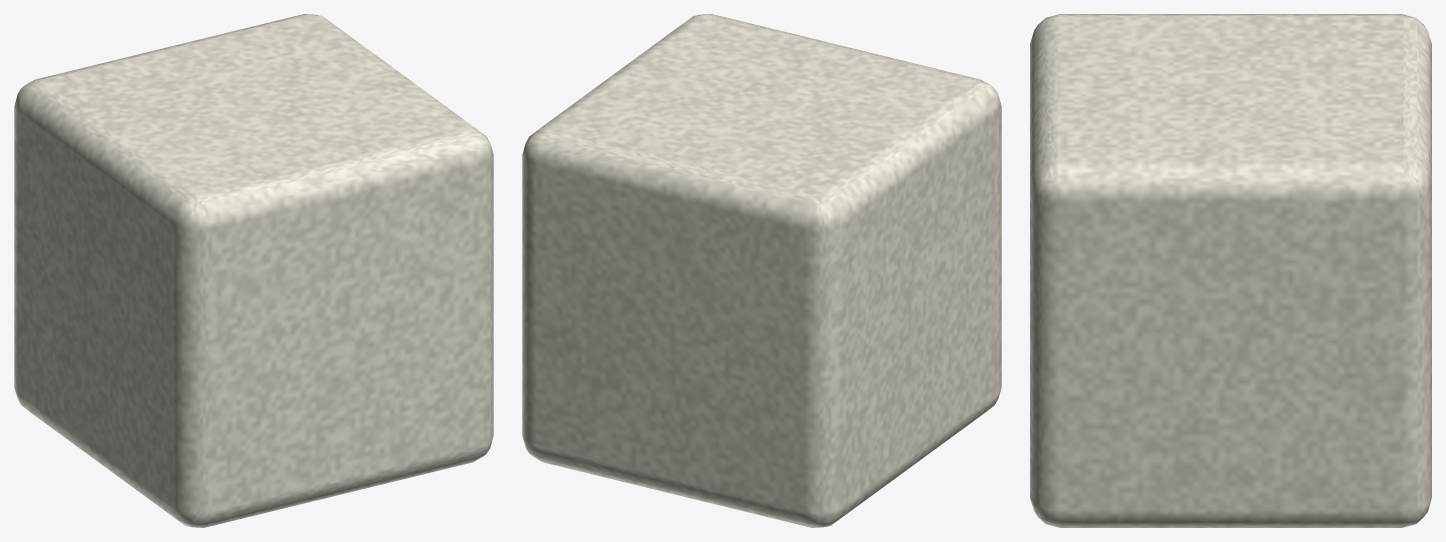
Rendered from hazard_sugar_cube.glb.
The picture shows the model from 3 angles, left to right: view 1: azimuth 30°, elevation 25°; view 2: azimuth 150°, elevation 25°; view 3: azimuth 270°, elevation 25°; orthographic projection. The views are drawn at different scales.
Visible parts, largest first — view 1: sugar_cube; view 2: sugar_cube; view 3: sugar_cube.
Part boxes in pixels (x1,y1,x2,y2): sugar_cube: (14, 14, 493, 527); sugar_cube: (522, 14, 1001, 527); sugar_cube: (1030, 14, 1431, 527).
Bounding box in the file's own units: 0.6 × 0.6 × 0.6.
Materials: 1 (1 with a texture image).
